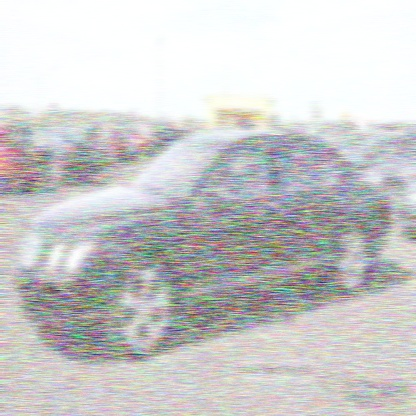Vehicle: (10, 124, 391, 360)
